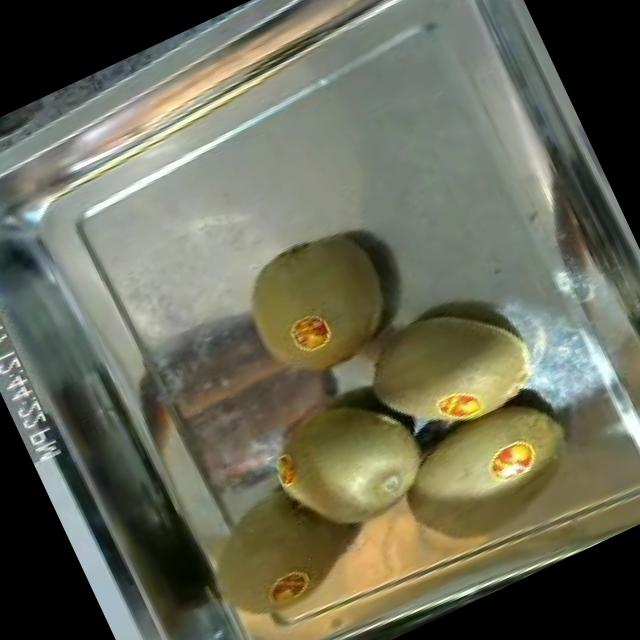Fruit: (242, 363, 458, 566), (340, 271, 556, 464), (217, 210, 417, 400)
